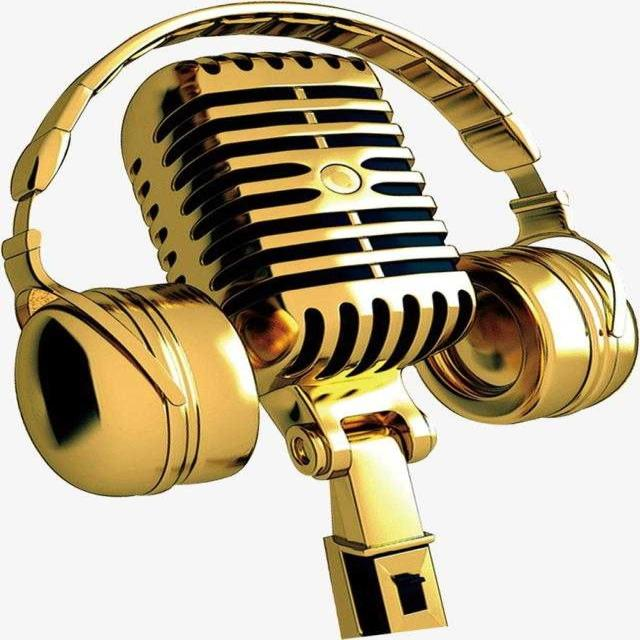microphone: (115, 47, 490, 390)
